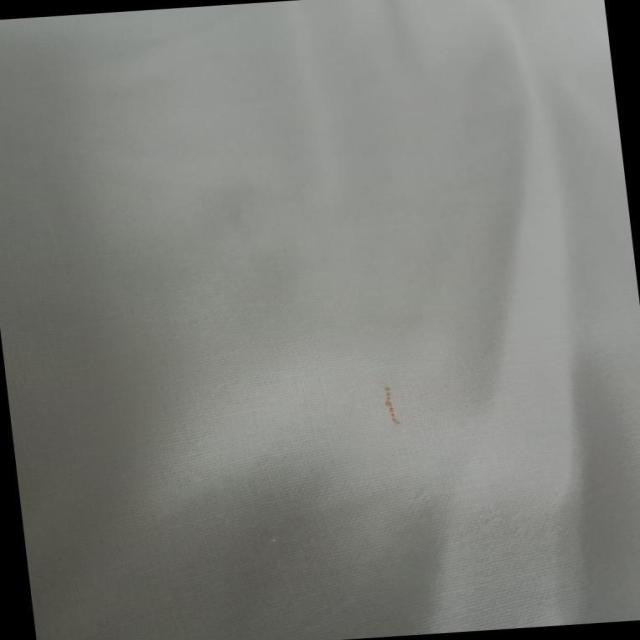contamination: (368, 374, 420, 439)
